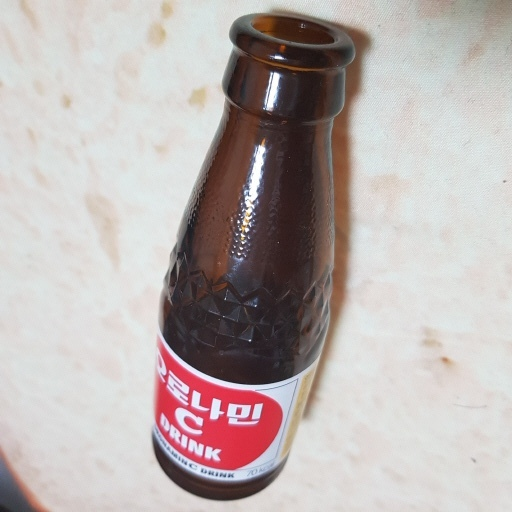Glass_3: (148, 14, 359, 501)
